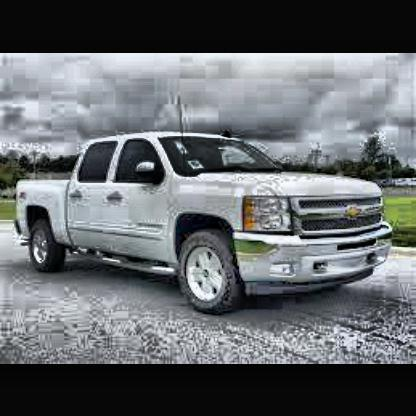Chevrolet Silverado 1500 Hybrid Crew Cab 2012: (9, 140, 399, 319)
